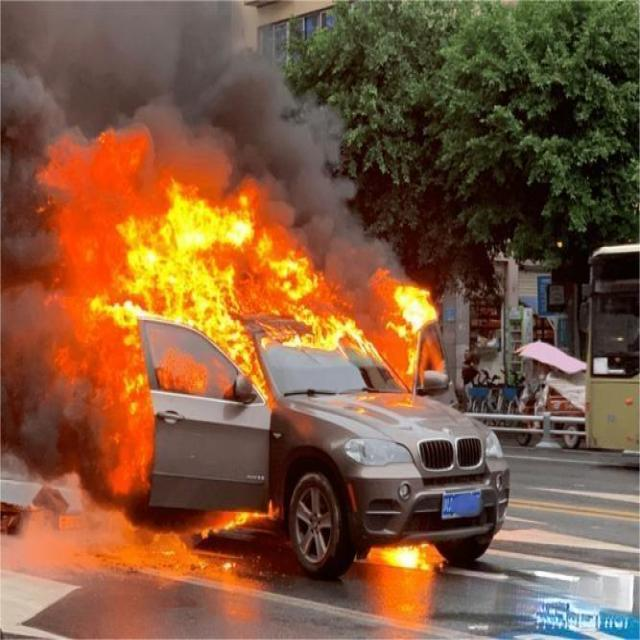Fire: (86, 186, 258, 316), (264, 233, 368, 350), (206, 316, 266, 400), (387, 278, 439, 338), (382, 540, 429, 570)
Smoke: (0, 0, 343, 173)
